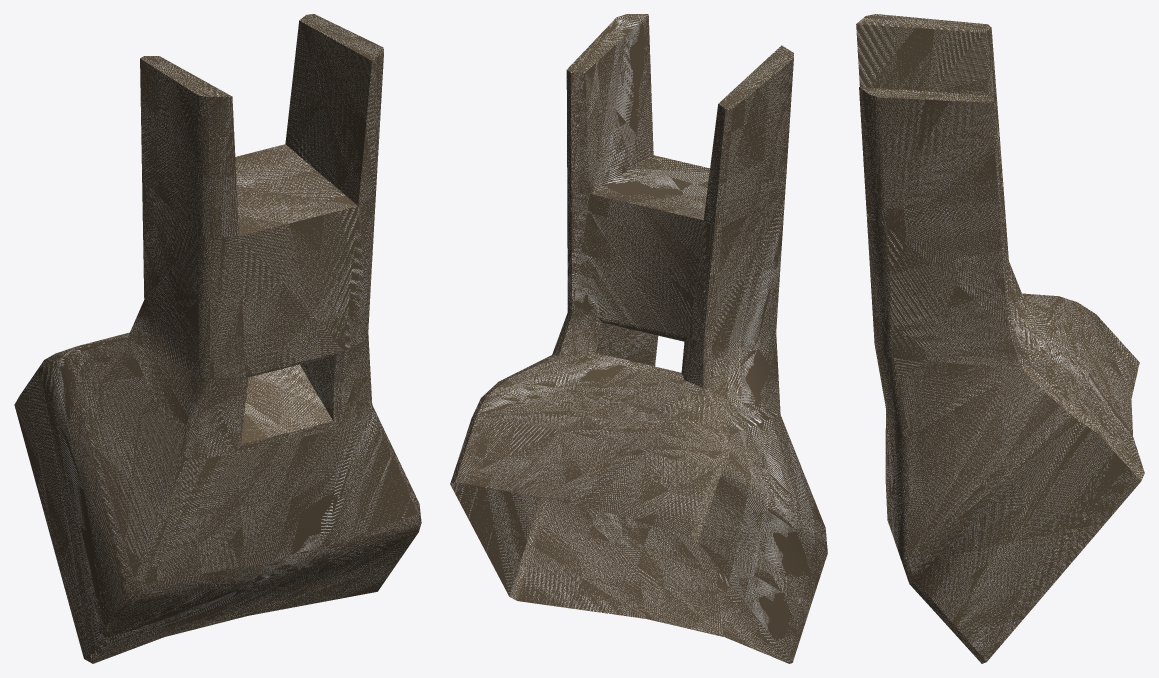
Rendered from original-6.obj.
The picture shows the model from 3 angles, left to right: view 1: azimuth 30°, elevation 25°; view 2: azimuth 150°, elevation 25°; view 3: azimuth 270°, elevation 25°; orthographic projection. The views are drawn at different scales.
Parts seen in each view (by area): view 1: mesh6/mesh6-geometry#mesh6-geometry; view 2: mesh6/mesh6-geometry#mesh6-geometry; view 3: mesh6/mesh6-geometry#mesh6-geometry.
Boxes of the visible parts, x1,y1,x2,y2 form: mesh6/mesh6-geometry#mesh6-geometry: [14, 14, 421, 663]; mesh6/mesh6-geometry#mesh6-geometry: [450, 14, 827, 663]; mesh6/mesh6-geometry#mesh6-geometry: [856, 14, 1144, 663].
Size of the model in its own units: 0.0883 by 0.1672 by 0.0803.
